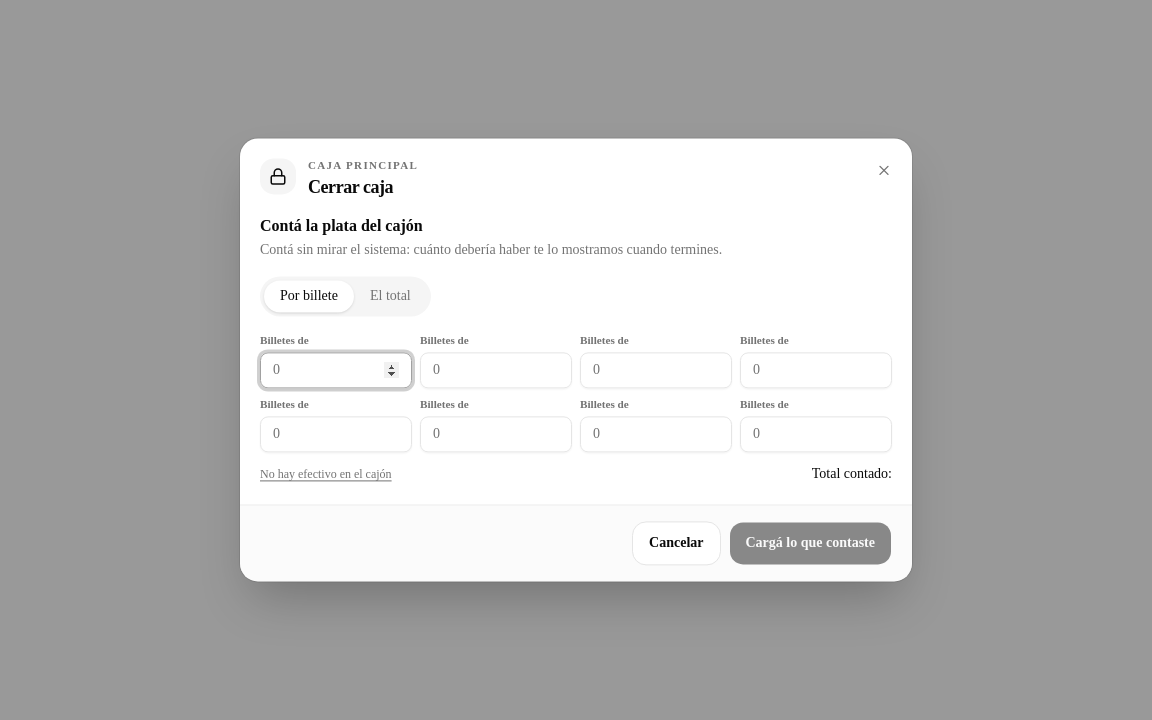
Test: CerrarCajaModal · conteo ciego (spec 209) › un día sin efectivo se declara en $0 sin buscar el otro modo
Click the button "No hay efectivo en el cajón": click(326, 475) 260,467 -> 392,483
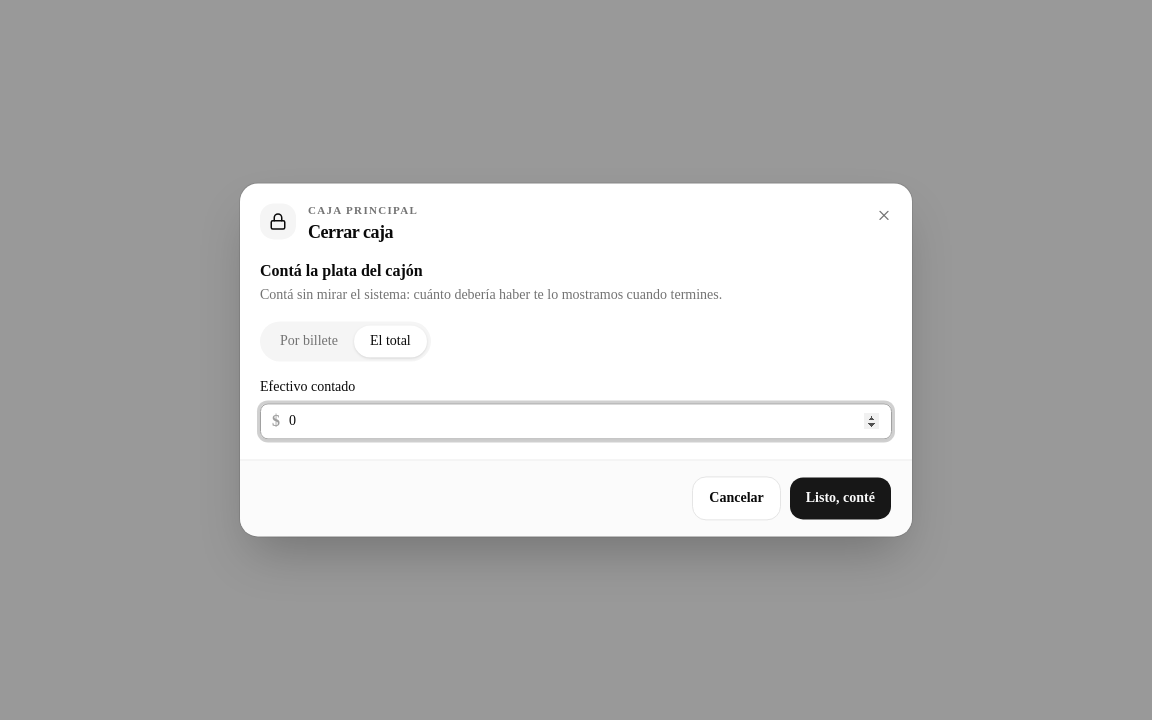
Click the button "Listo, conté": click(840, 499) 789,477 -> 892,521
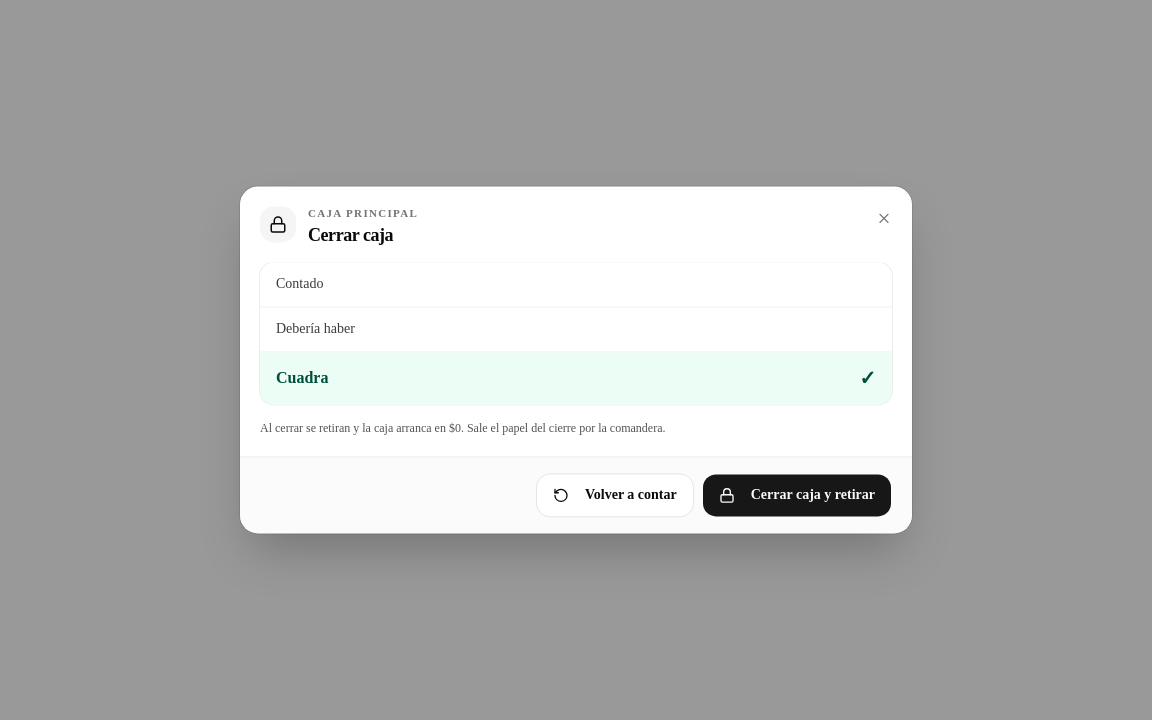
Expected: the text "Cuadra" is shown, 276,367 -> 328,391
